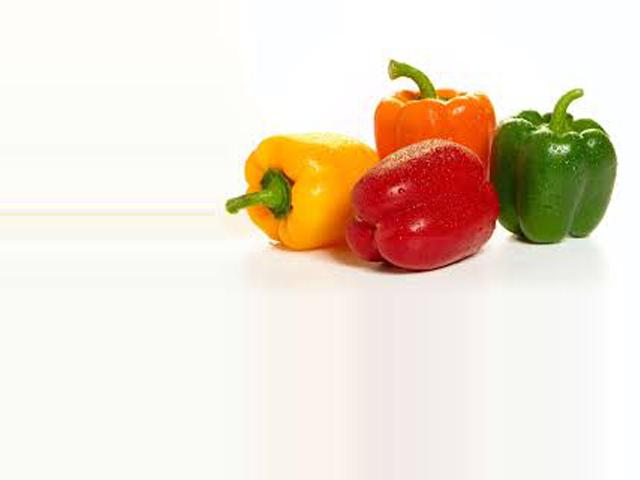bell_pepper: (482, 97, 616, 264)
